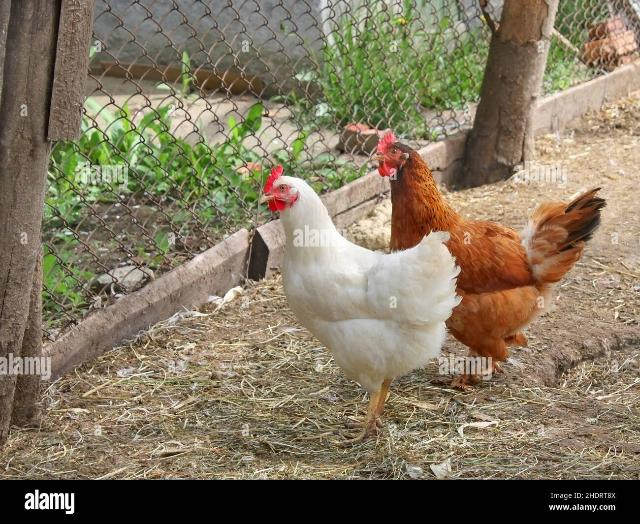Chicken: (373, 127, 606, 384), (263, 168, 461, 445)
